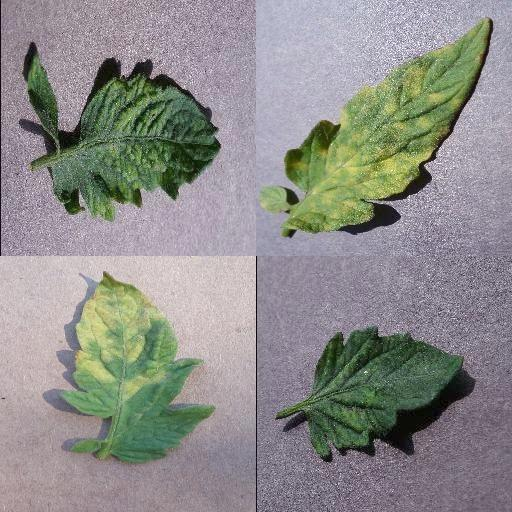Leaf Mold: (260, 15, 491, 235), (60, 269, 216, 465)
Mosaic Virus: (26, 48, 224, 222), (305, 322, 465, 464)
